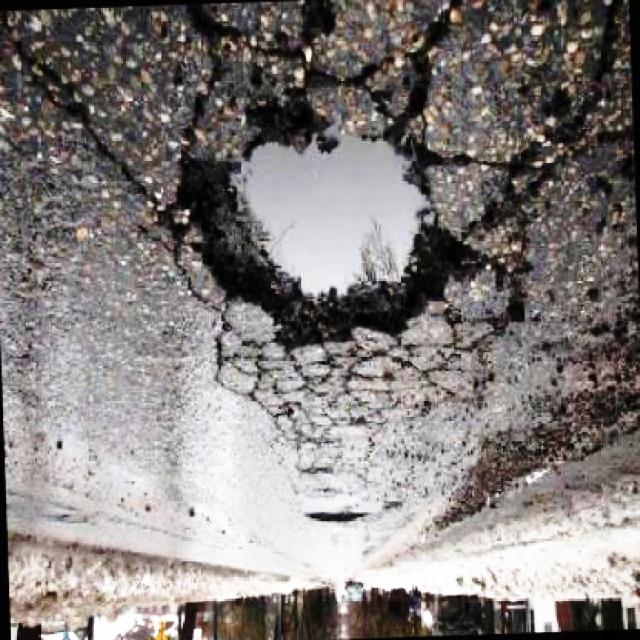pothole: (167, 72, 496, 362), (303, 502, 371, 529)
